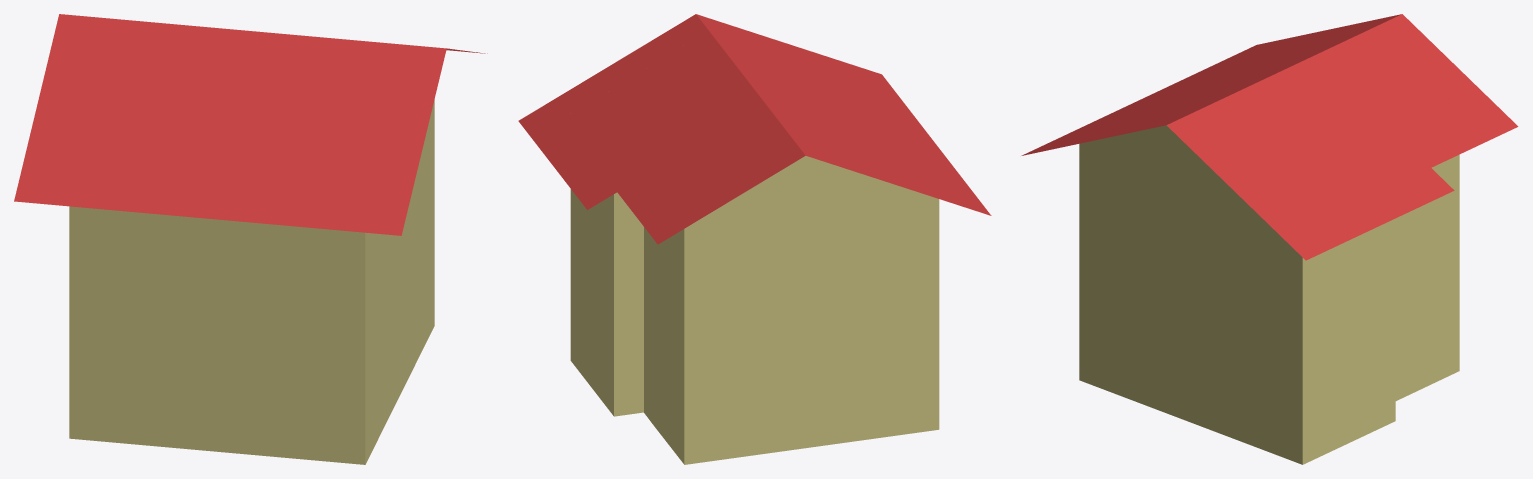
3 renders of one model, left to right at view 1: azimuth 30°, elevation 25°; view 2: azimuth 150°, elevation 25°; view 3: azimuth 270°, elevation 25°, orthographic. The views are drawn at different scales.
Visible parts, largest first — view 1: group_5, group_3; view 2: group_5, group_3, group_4; view 3: group_5, group_3, group_4.
Boxes of the visible parts, x1,y1,x2,y2 form: group_5: (69, 100, 434, 464); group_3: (14, 14, 487, 235); group_5: (570, 156, 939, 464); group_3: (518, 14, 991, 226); group_4: (519, 14, 810, 244); group_5: (1079, 125, 1459, 464); group_3: (1021, 14, 1459, 260); group_4: (1166, 14, 1518, 260).
Bounding box in the file's own units: 18.66 × 17.9 × 12.36.
